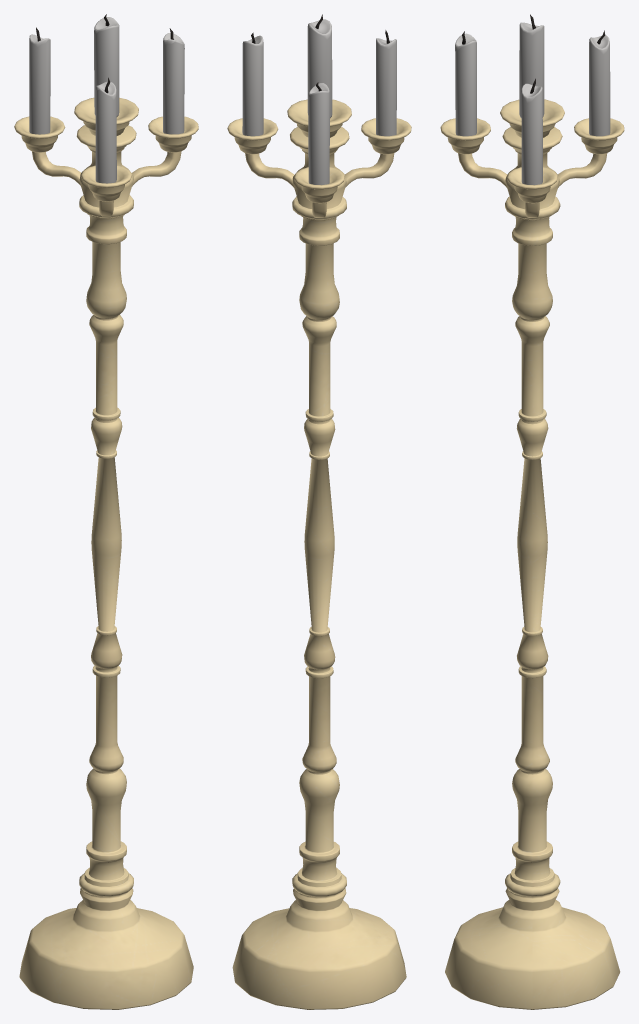
Rendered from CandleStand_A.fbx.
The picture shows the model from 3 angles, left to right: view 1: azimuth 30°, elevation 25°; view 2: azimuth 150°, elevation 25°; view 3: azimuth 270°, elevation 25°; orthographic projection.
Parts seen in each view (by area): view 1: CandleStand_A; view 2: CandleStand_A; view 3: CandleStand_A.
Part boxes in pixels (bbox=[...]): CandleStand_A: bbox=[14, 14, 198, 1009]; CandleStand_A: bbox=[227, 14, 411, 1009]; CandleStand_A: bbox=[440, 14, 624, 1009].
Size of the model in its own units: 0.4364 by 2.43 by 0.4224.
